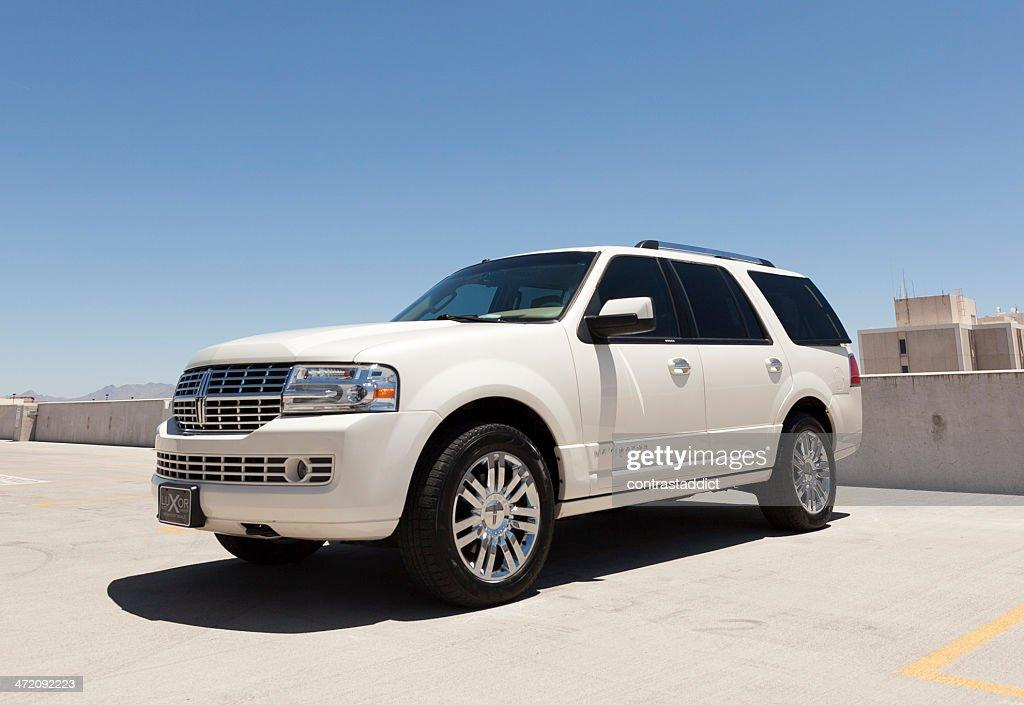lincoln: (192, 371, 212, 427)
